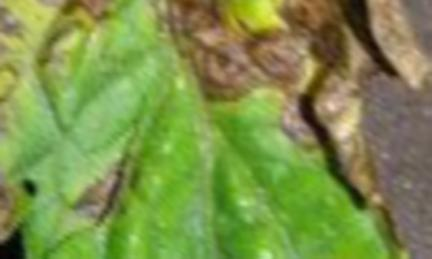Tomato Early blight leaf: (0, 0, 425, 259)
